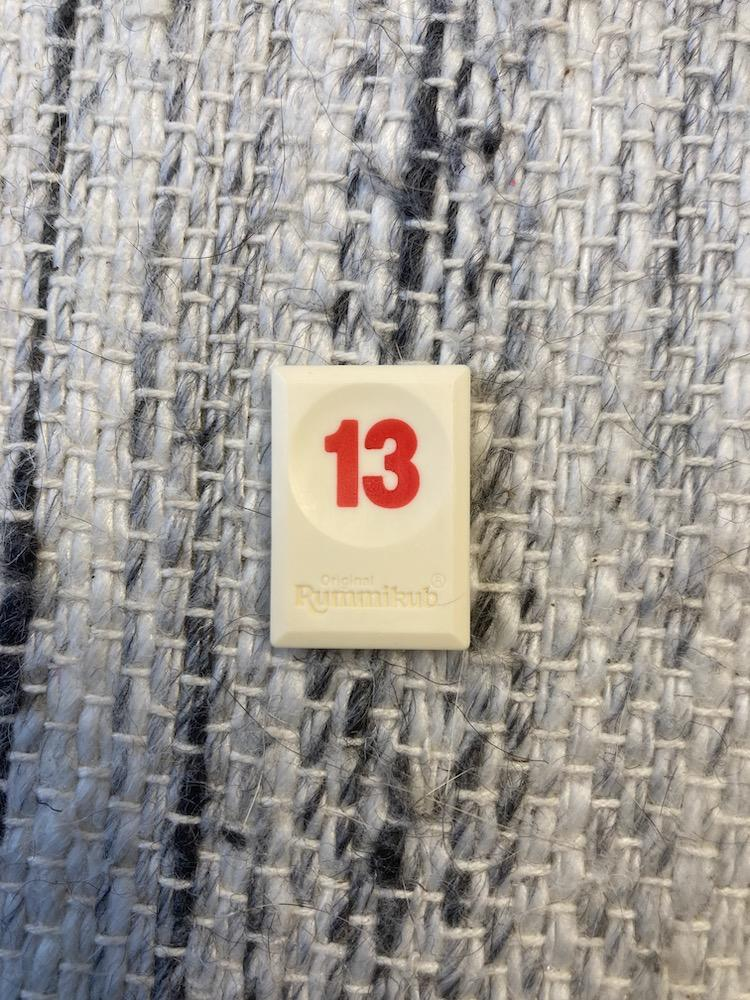red_13: (273, 365, 471, 648)
